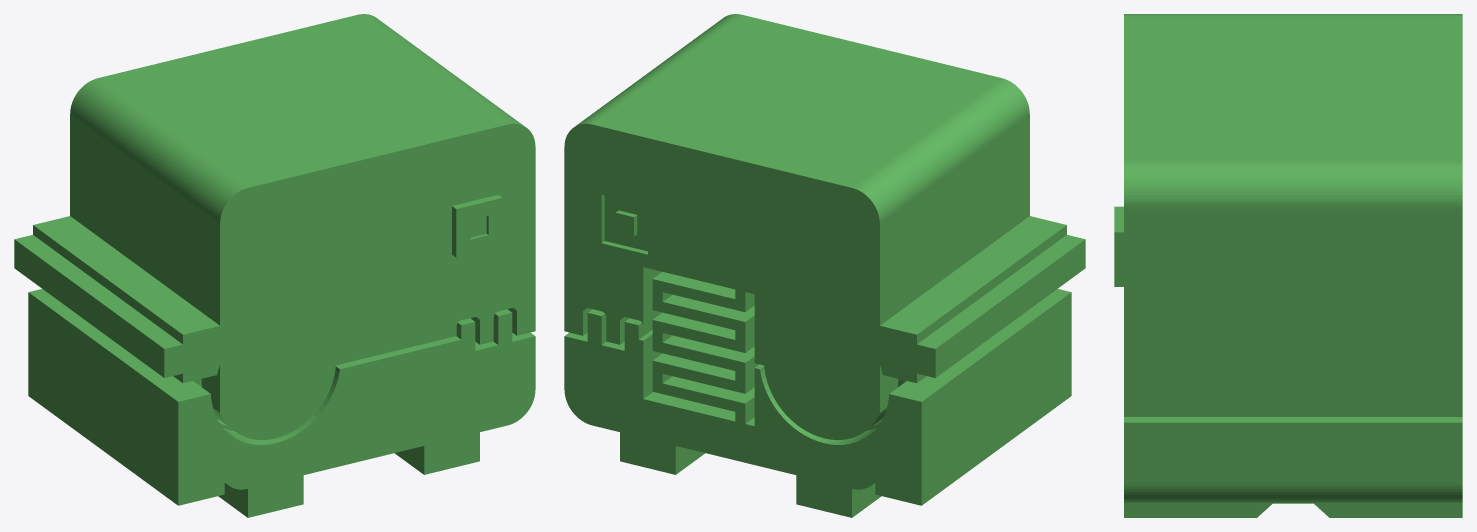
The model's file is trex-chomper.glb.
3 views of the same model, side by side, from view 1: azimuth 30°, elevation 25°; view 2: azimuth 150°, elevation 25°; view 3: azimuth 270°, elevation 25° (orthographic). The views are drawn at different scales.
Parts seen in each view (by area): view 1: c0; view 2: c0; view 3: c0.
Part boxes in pixels (x1,y1,x2,y2): c0: (14, 14, 535, 517); c0: (564, 14, 1085, 517); c0: (1114, 14, 1462, 517).
Size of the model in its own units: 40 by 34 by 28.79.
